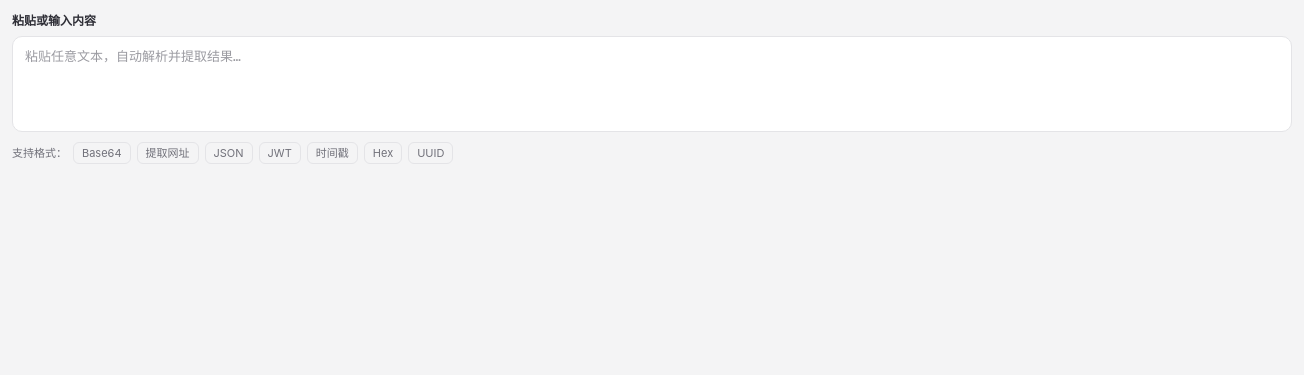
Test: DetectTool 各类型结果视图 › Hex 示例：解码为 ASCII 并展示字节数
Click the button with class "tw-detect__format-chip" showing "Hex".
click(383, 153)  # box [364,142,402,164]
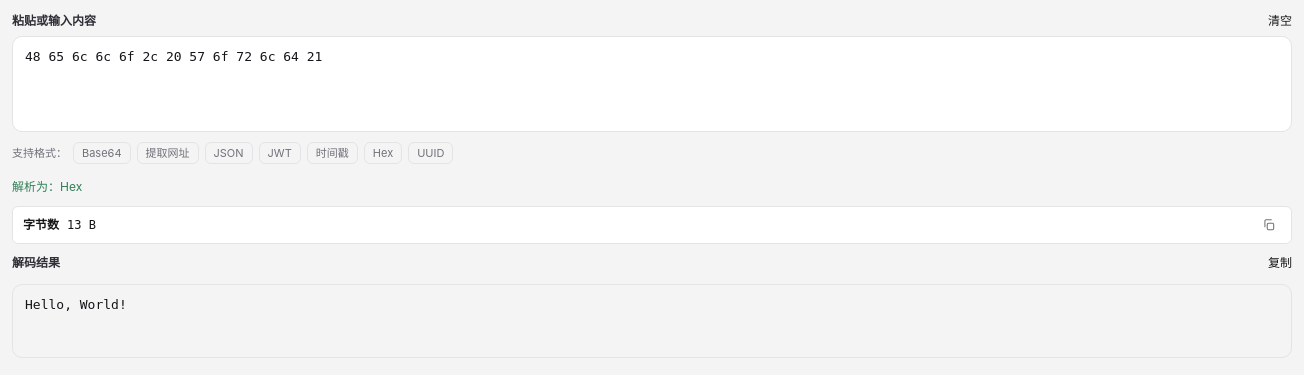
Check: the text "解析为：Hex" is shown, box [12,178,82,196]
Check: the text "字节数" is shown, box [23,216,59,234]
